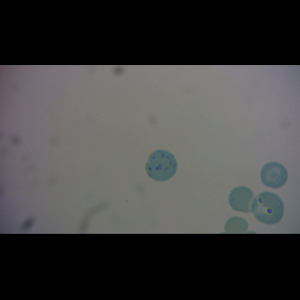aggregate reticulocyte: (144, 149, 179, 183)
erythrocyte: (250, 189, 286, 226), (228, 185, 260, 215), (260, 161, 288, 189)
